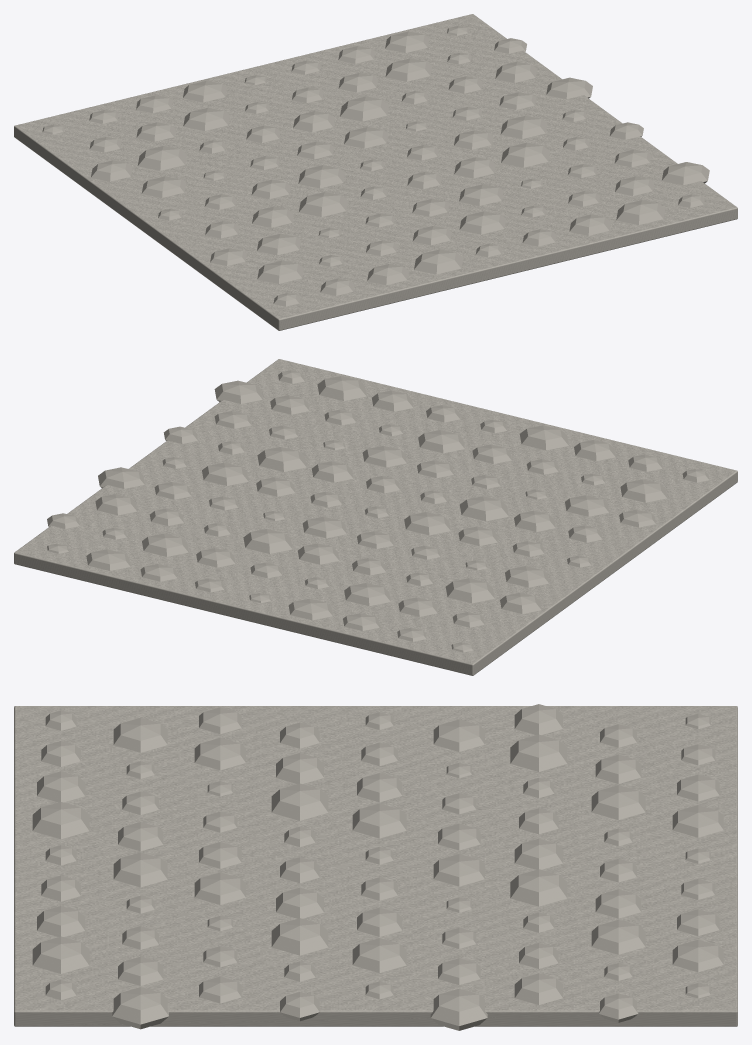
The model's file is beach.glb.
3 renders of one model, top to bottom at view 1: azimuth 30°, elevation 25°; view 2: azimuth 150°, elevation 25°; view 3: azimuth 270°, elevation 25°, orthographic. The views are drawn at different scales.
Parts seen in each view (by area): view 1: beach-shingle-module; view 2: beach-shingle-module; view 3: beach-shingle-module.
Boxes of the visible parts, left/top/right/bottom form: beach-shingle-module: left=14, top=14, right=737, bottom=330; beach-shingle-module: left=14, top=359, right=737, bottom=675; beach-shingle-module: left=14, top=704, right=737, bottom=1030.
Size of the model in its own units: 4.15 by 0.1851 by 4.
Materials: 1 (1 with a texture image).
